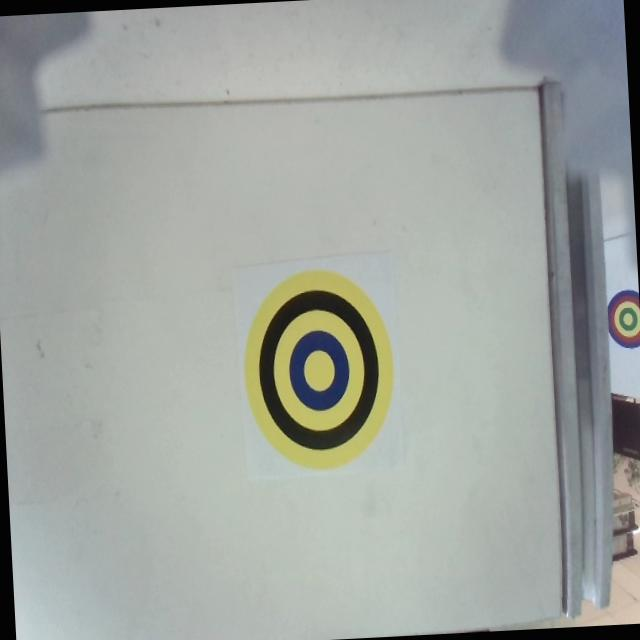cogn: (240, 264, 398, 473)
